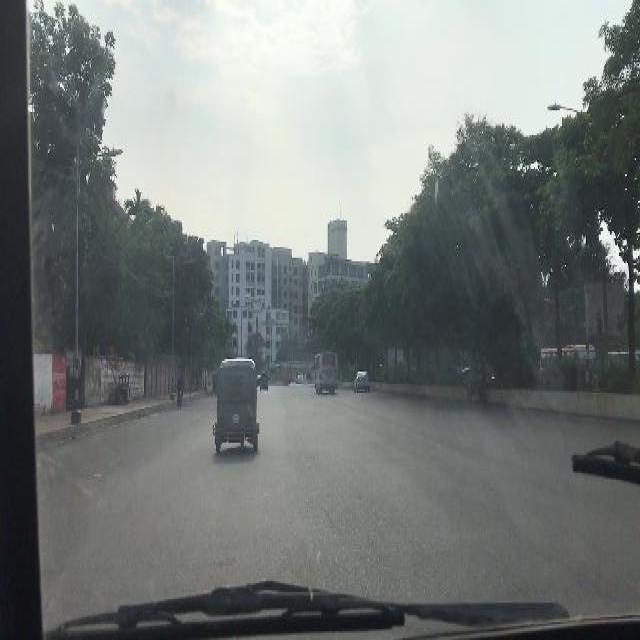13: (466, 354, 486, 402)
17: (214, 358, 258, 449), (258, 372, 268, 388)
5: (354, 372, 371, 389), (295, 373, 303, 384), (256, 374, 260, 387)
Motorcycle: (176, 387, 180, 409)
Truck: (541, 342, 595, 383), (312, 351, 338, 392), (606, 346, 632, 372)
